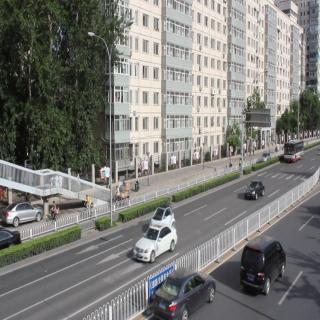BigCar: (282, 138, 306, 164)
Car: (155, 263, 216, 320), (239, 236, 285, 294), (134, 227, 179, 262), (2, 200, 44, 228), (152, 204, 174, 226), (244, 177, 262, 201)
